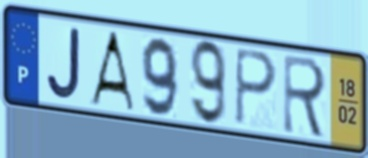9: (188, 36, 228, 128), (139, 35, 181, 119)
A: (86, 30, 137, 114)
J: (44, 24, 82, 102)
P: (233, 45, 279, 128)
R: (281, 51, 329, 142)
